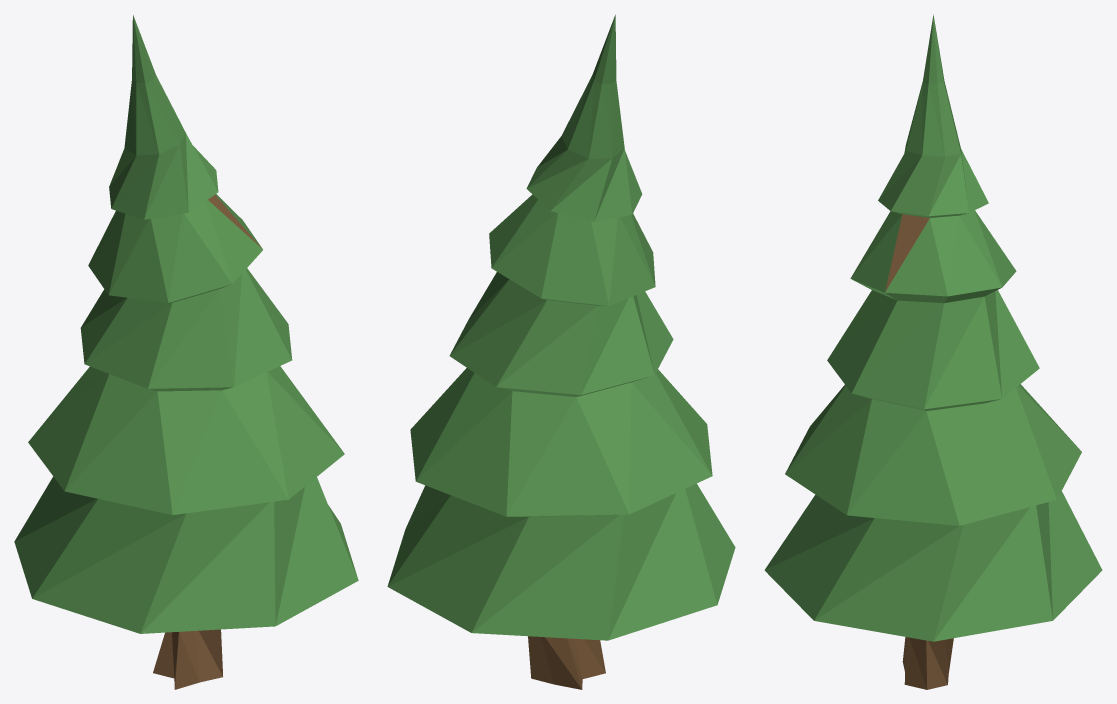
File: tree3d-152.glb
The picture shows the model from 3 angles, left to right: view 1: azimuth 30°, elevation 25°; view 2: azimuth 150°, elevation 25°; view 3: azimuth 270°, elevation 25°; orthographic projection. The views are drawn at different scales.
Visible parts, largest first — view 1: tree3d-152; view 2: tree3d-152; view 3: tree3d-152.
Boxes of the visible parts, box(x1,y1,x2,y2) form: tree3d-152: box(14, 15, 358, 689); tree3d-152: box(387, 14, 735, 689); tree3d-152: box(764, 14, 1102, 689).
Bounding box in the file's own units: 0.4819 × 1 × 0.4819.
